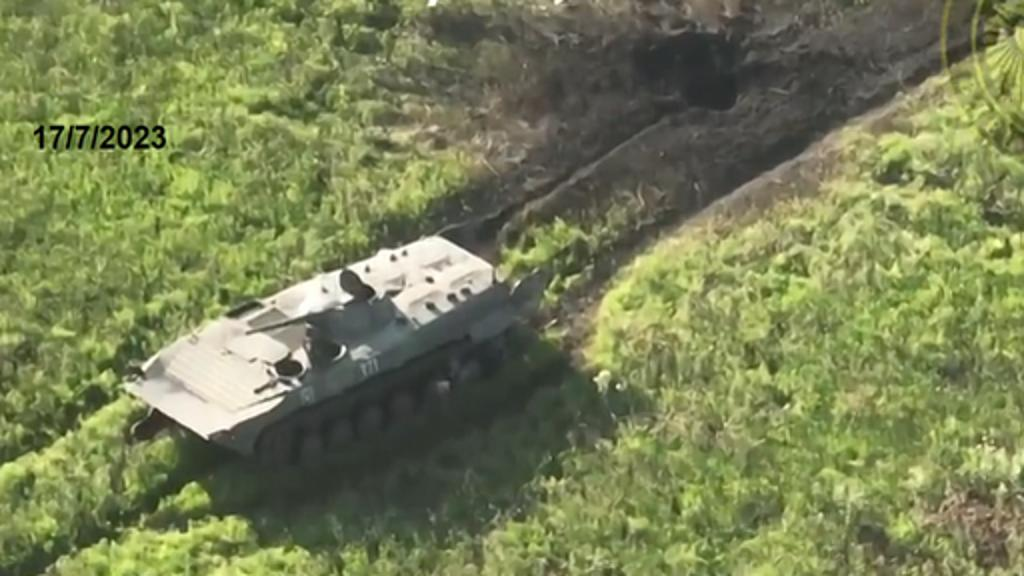APC-IFV: (100, 232, 526, 468)
